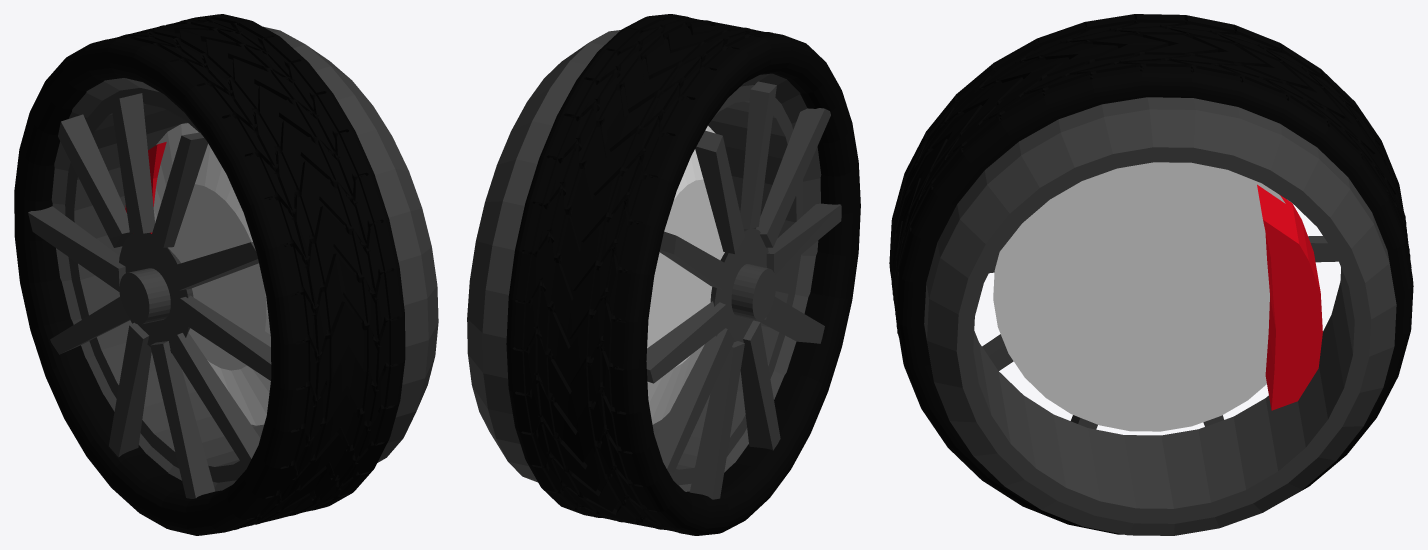
File: llanta_td.fbx
The picture shows the model from 3 angles, left to right: view 1: azimuth 30°, elevation 25°; view 2: azimuth 150°, elevation 25°; view 3: azimuth 270°, elevation 25°; orthographic projection. The views are drawn at different scales.
Parts seen in each view (by area): view 1: Тормозной диск.002; view 2: Тормозной диск.002; view 3: Тормозной диск.002.
Boxes of the visible parts, bbox=[...] form: Тормозной диск.002: bbox=[14, 14, 438, 535]; Тормозной диск.002: bbox=[467, 14, 860, 535]; Тормозной диск.002: bbox=[889, 14, 1413, 535].
Size of the model in its own units: 41.17 by 85.26 by 85.76.
